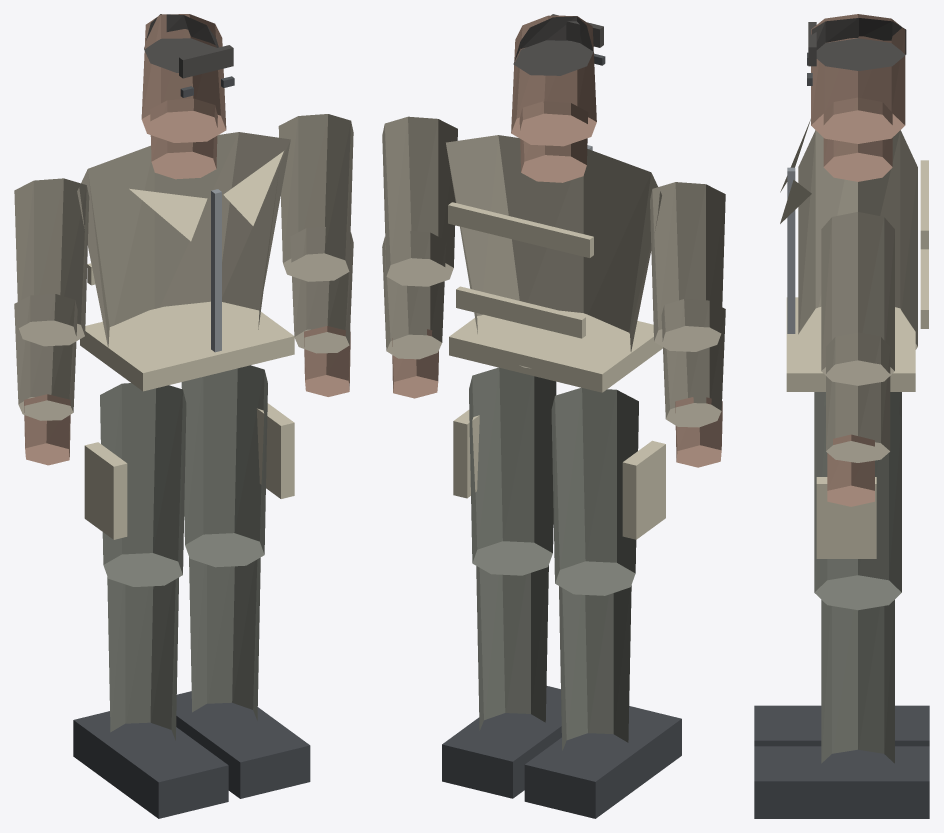
File: mystery_character_sand.glb
3 renders of one model, left to right at view 1: azimuth 30°, elevation 25°; view 2: azimuth 150°, elevation 25°; view 3: azimuth 270°, elevation 25°, orthographic. The views are drawn at different scales.
Parts seen in each view (by area): view 1: Jacket, Thigh.R, Thigh.L, Hem, Shoe.L, UpperArm.R, UpperArm.L, Shin.L, Shin.R, Shoe.R, Head, Forearm.L (+10 smaller); view 2: Jacket, Thigh.R, Thigh.L, Shoe.L, UpperArm.R, UpperArm.L, Shin.R, Shin.L, Hem, Shoe.R, Forearm.L, Head (+9 smaller); view 3: Shoe.R, Jacket, Shin.R, UpperArm.R, Thigh.R, Head, Forearm.R, Hem, Shoe.L, Hair, Pocket.R, Neck (+7 smaller).
Boxes of the visible parts, x1,y1,x2,y2 form: Jacket: (77, 132, 290, 347); Thigh.R: (181, 365, 267, 567); Thigh.L: (100, 383, 186, 586); Hem: (80, 301, 294, 391); Shoe.L: (73, 711, 228, 818); UpperArm.R: (278, 114, 353, 281); UpperArm.L: (14, 178, 89, 346); Shin.L: (107, 577, 178, 740); Shin.R: (189, 557, 260, 720); Shoe.R: (176, 691, 310, 798); Head: (141, 14, 226, 142); Forearm.L: (14, 294, 77, 420); Jacket: (446, 135, 661, 368); Thigh.R: (469, 367, 556, 575); Thigh.L: (551, 387, 638, 595); Shoe.L: (524, 706, 681, 818); UpperArm.R: (382, 116, 457, 286); UpperArm.L: (650, 182, 725, 351); Shin.R: (476, 565, 548, 730); Shin.L: (559, 585, 631, 750); Hem: (449, 310, 662, 392); Shoe.R: (442, 686, 561, 798); Forearm.L: (661, 299, 725, 427); Head: (511, 15, 596, 146); Shoe.R: (754, 746, 929, 818); Jacket: (798, 130, 917, 349); Shin.R: (821, 600, 894, 763); UpperArm.R: (821, 212, 894, 385); Thigh.R: (814, 405, 901, 610); Head: (811, 14, 905, 143); Forearm.R: (826, 332, 890, 462); Hem: (786, 297, 915, 391); Shoe.L: (754, 705, 929, 746); Hair: (811, 18, 906, 70); Pocket.R: (816, 477, 876, 558); Neck: (823, 97, 892, 181).
Bounding box in the file's own units: 0.86 × 1.8 × 0.38.
